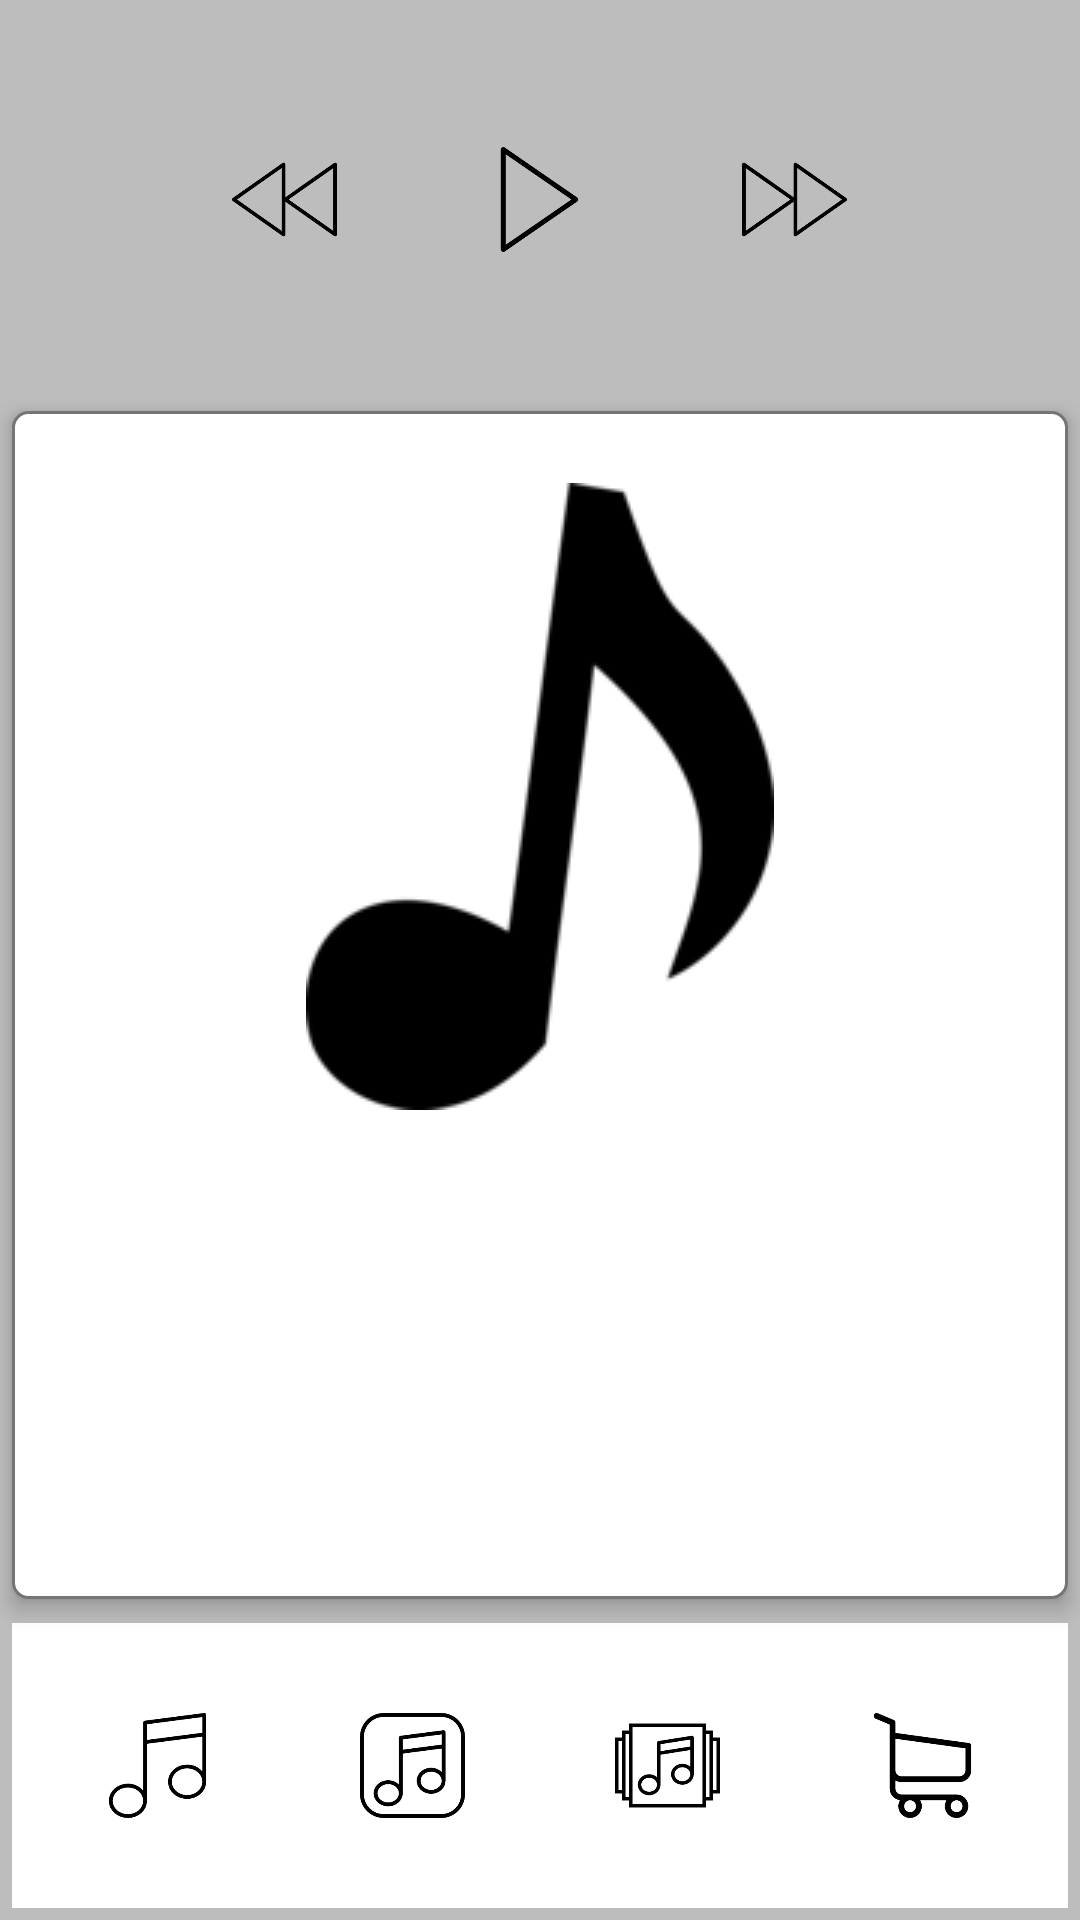

Named icons in this screenshot (1080 x 1920) and their bounding boxes, (x1, y1, x2, y2):
back: (232, 162, 337, 237)
forward: (742, 162, 847, 237)
library: (615, 1723, 720, 1808)
nowplaying: (109, 1713, 206, 1818)
play: (500, 147, 579, 252)
trolley: (874, 1713, 971, 1818)
